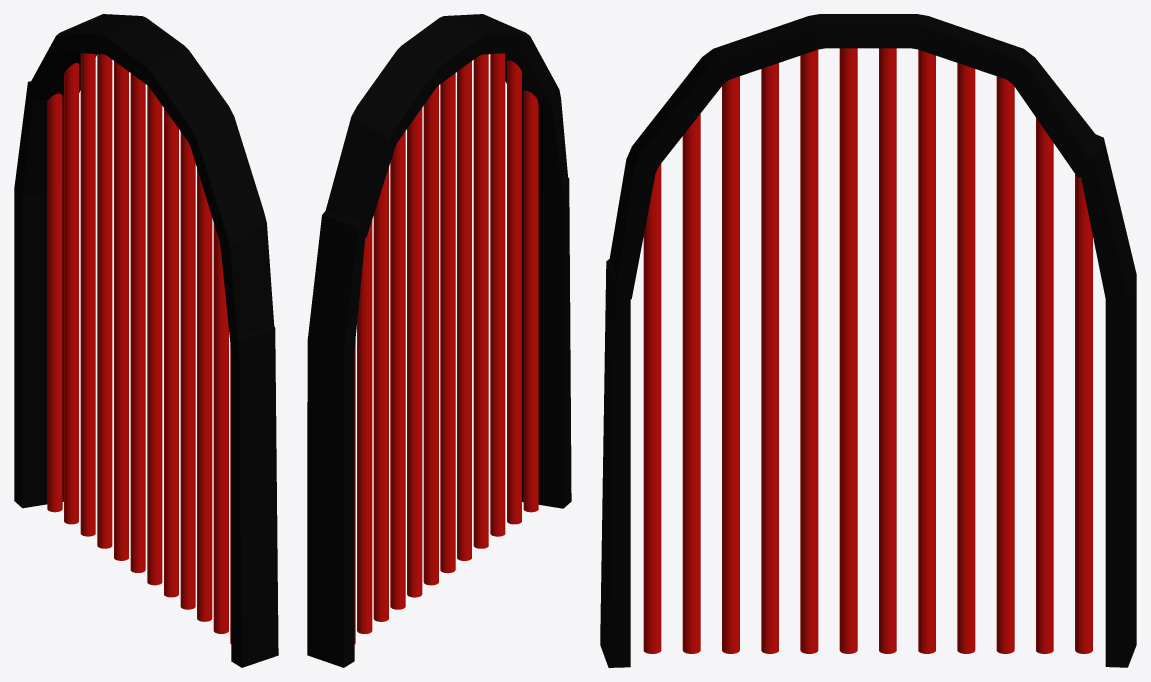
The model's file is LevelGatefbx.fbx.
The picture shows the model from 3 angles, left to right: view 1: azimuth 30°, elevation 25°; view 2: azimuth 150°, elevation 25°; view 3: azimuth 270°, elevation 25°; orthographic projection. The views are drawn at different scales.
Parts seen in each view (by area): view 1: Walls.004; view 2: Walls.004; view 3: Walls.004.
Boxes of the visible parts, bbox=[...] form: Walls.004: bbox=[14, 14, 278, 667]; Walls.004: bbox=[307, 14, 571, 667]; Walls.004: bbox=[600, 14, 1136, 667].
Size of the model in its own units: 29.18 by 351 by 266.
